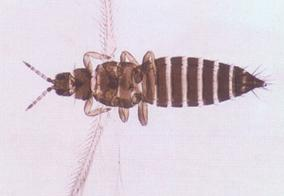Thripidae: (22, 1, 270, 194)
